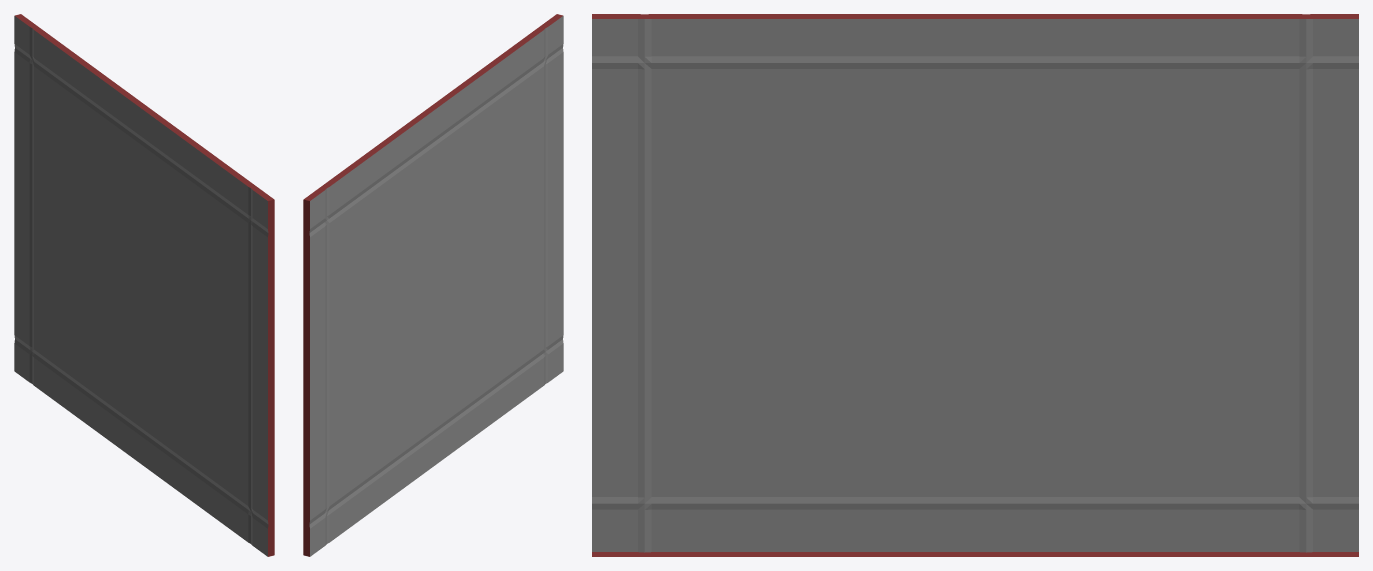
File: Mirror_03.FBX
3 views of the same model, side by side, from view 1: azimuth 30°, elevation 25°; view 2: azimuth 150°, elevation 25°; view 3: azimuth 270°, elevation 25° (orthographic). The views are drawn at different scales.
Parts seen in each view (by area): view 1: DynamicPart, StaticPart; view 2: DynamicPart, StaticPart; view 3: DynamicPart, StaticPart.
Part boxes in pixels (x1,y1,x2,y2): DynamicPart: [14, 16, 268, 556]; StaticPart: [15, 14, 274, 556]; DynamicPart: [309, 16, 563, 556]; StaticPart: [303, 14, 562, 556]; DynamicPart: [592, 19, 1358, 552]; StaticPart: [592, 14, 1358, 556].
Size of the model in its own units: 0.3767 by 25.05 by 19.4.
